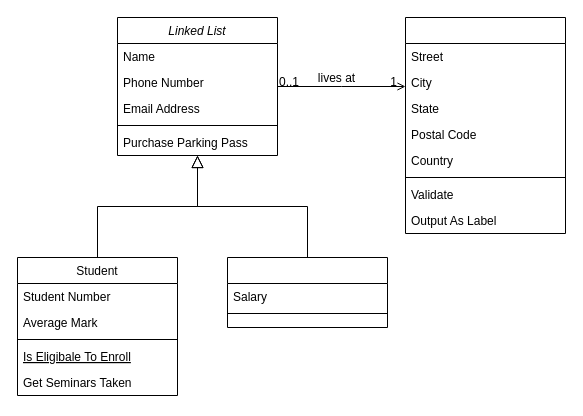
Some shapes in this 583 by 416 pixel diagram are drawn without their labels. Each missing label, with the box of its shape:
Address: (404, 16, 566, 234)
Professor: (226, 256, 388, 328)
